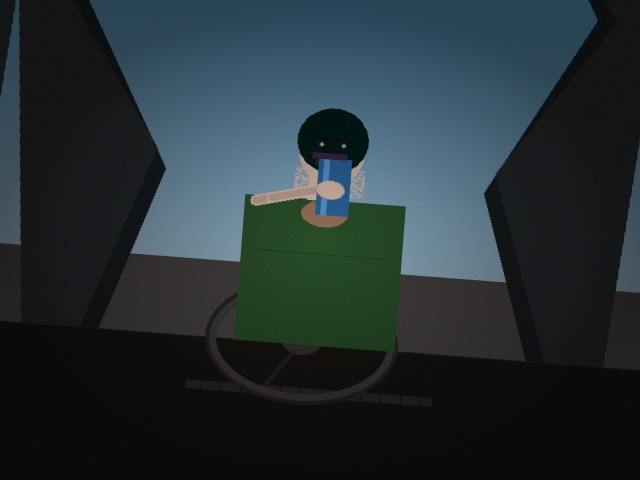drinking: (297, 143, 355, 224)
